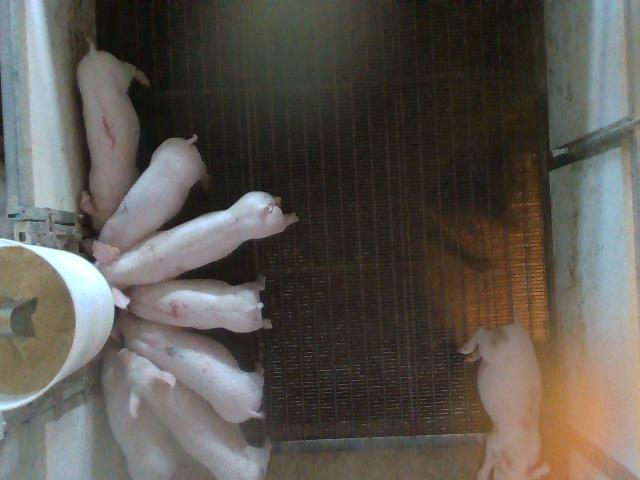pig-1: (78, 45, 150, 232)
pig-3: (459, 315, 550, 479)
pig-4: (128, 275, 271, 332)
